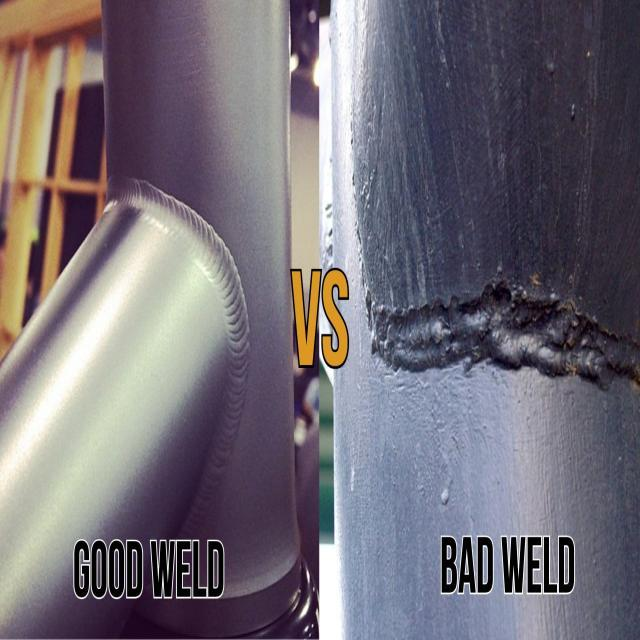Bad Weld: (364, 296, 632, 402)
Good Weld: (110, 176, 260, 516)
